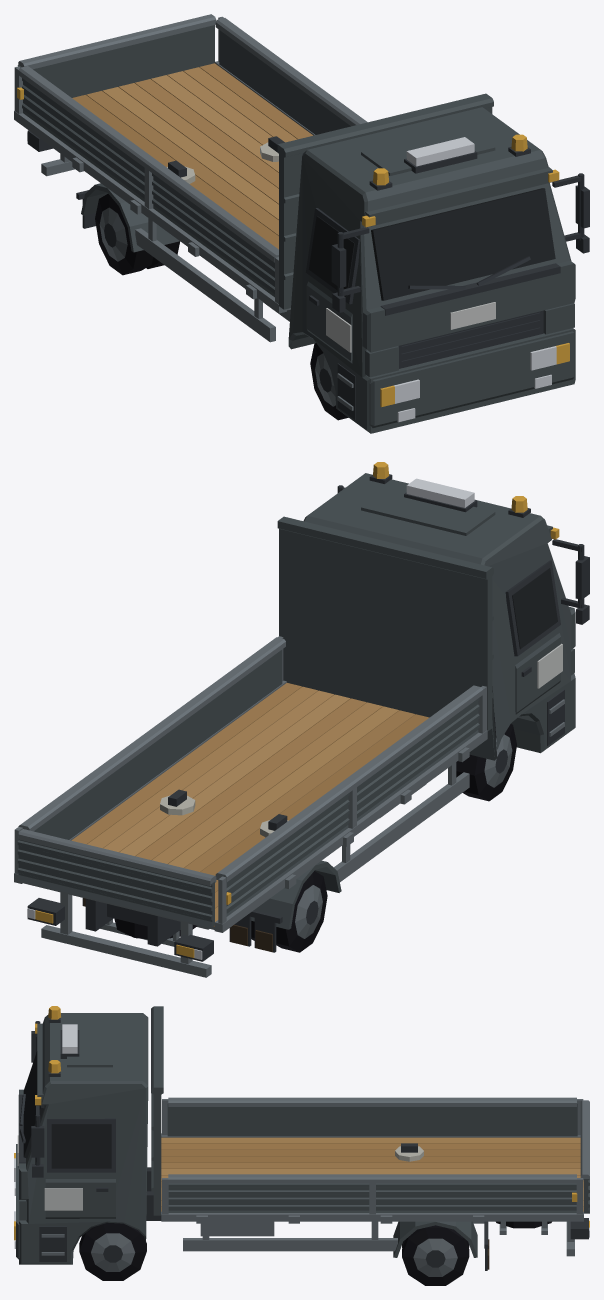
The model's file is flatbed-delivery-lorry.glb.
3 views of the same model, one above another, from view 1: azimuth 30°, elevation 25°; view 2: azimuth 150°, elevation 25°; view 3: azimuth 270°, elevation 25° (orthographic). The views are drawn at different scales.
Parts seen in each view (by area): view 1: body; view 2: body; view 3: body.
Part boxes in pixels (x1,y1,x2,y2): body: [14, 14, 589, 433]; body: [14, 462, 589, 977]; body: [14, 1006, 589, 1285].
Size of the model in its own units: 3 by 3.07 by 7.5.
